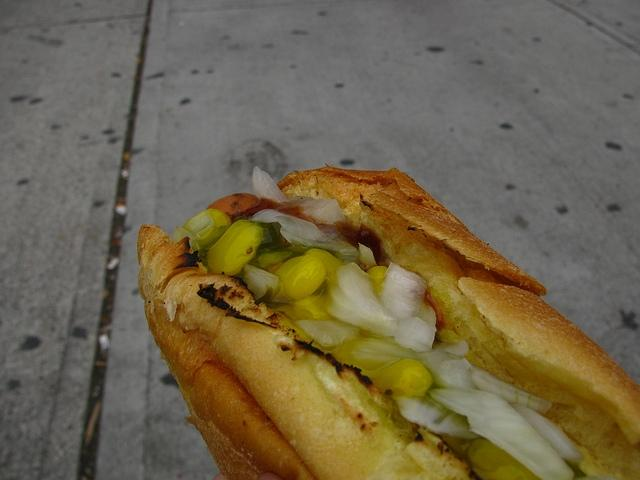onion: (428, 387, 574, 480), (511, 404, 584, 464), (392, 393, 483, 440), (469, 366, 553, 416), (326, 274, 398, 332), (336, 263, 402, 321), (271, 192, 352, 230), (334, 337, 419, 371), (325, 298, 394, 336), (380, 262, 427, 317), (417, 349, 479, 390), (280, 226, 357, 252), (294, 316, 359, 346), (274, 215, 340, 241), (242, 264, 280, 304), (395, 317, 437, 353), (252, 166, 290, 202), (358, 243, 378, 272)
